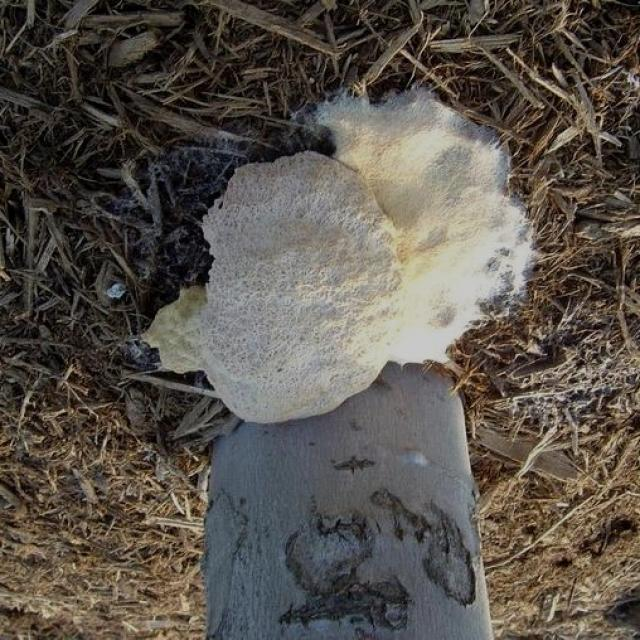Dog_vomit_slime_mold: (108, 90, 569, 386)
